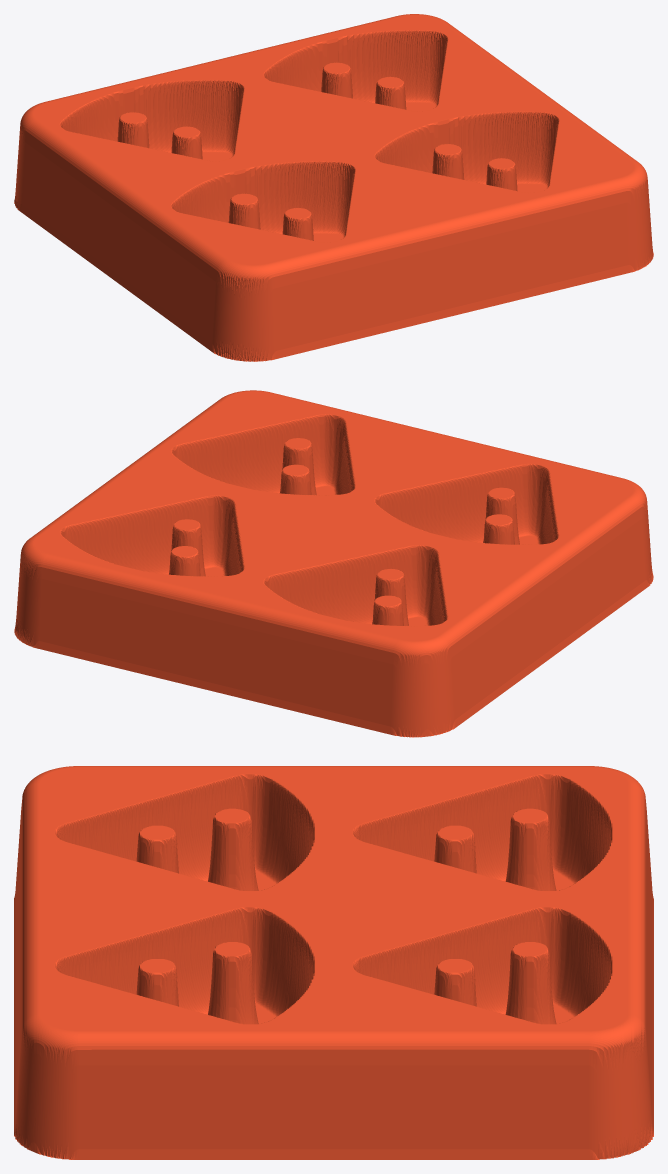
Rendered from mold.glb.
The picture shows the model from 3 angles, top to bottom: view 1: azimuth 30°, elevation 25°; view 2: azimuth 150°, elevation 25°; view 3: azimuth 270°, elevation 25°; orthographic projection. The views are drawn at different scales.
Visible parts, largest first — view 1: geometry_0; view 2: geometry_0; view 3: geometry_0.
Boxes of the visible parts, <box> form: geometry_0: <box>14,14,653,361</box>; geometry_0: <box>14,390,653,737</box>; geometry_0: <box>14,766,653,1159</box>.
Bounding box in the file's own units: 0.0942 × 0.0182 × 0.0894.
